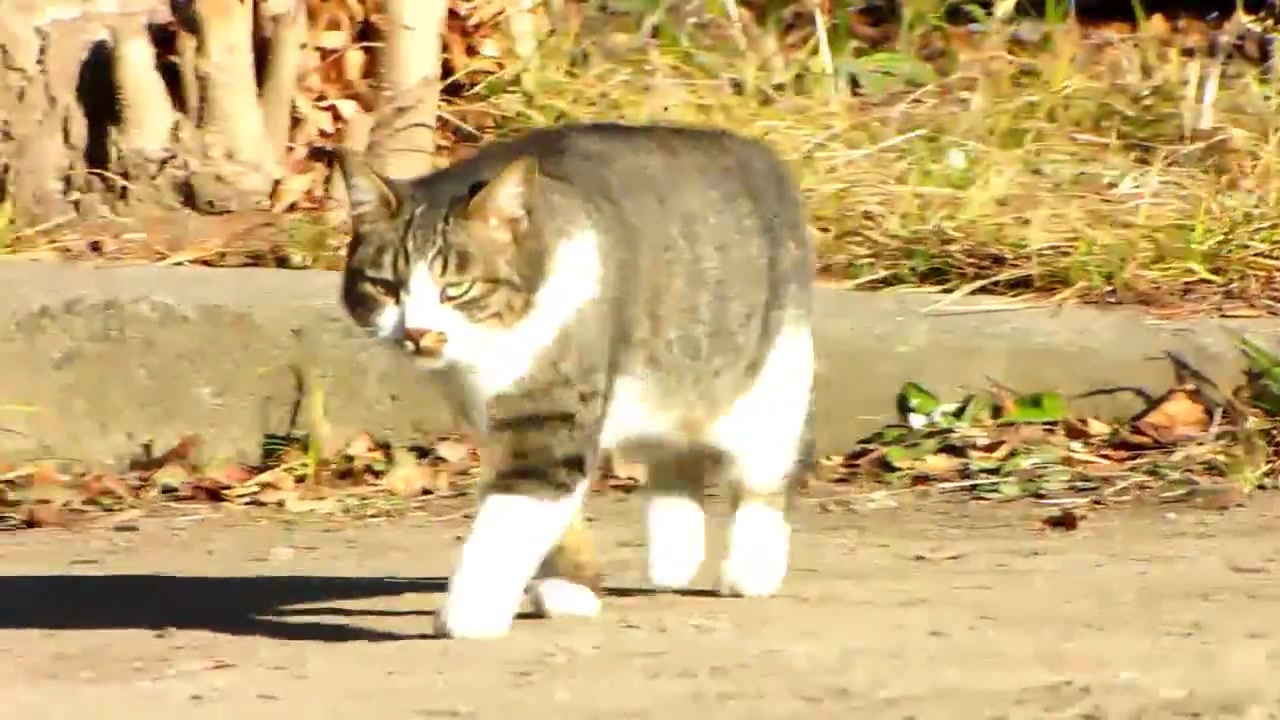cat: (326, 122, 824, 646)
